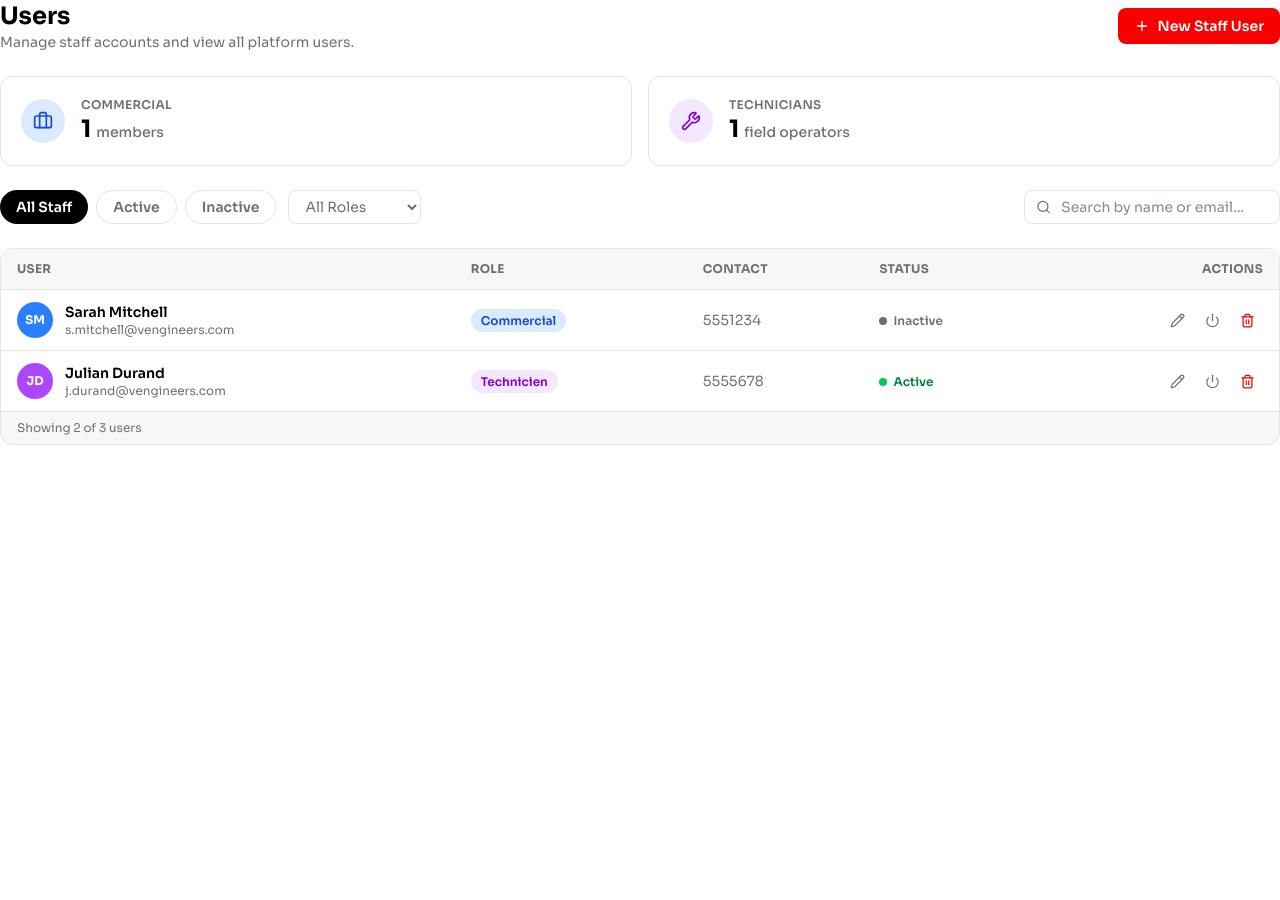
Admin Users › edits a user and shows the role as read-only
Expected: the text "Sarah Mitchell" is shown, [65, 303, 168, 321]
Click the button titled "Edit" in the row of "SM" at (1178,320), box [1162, 304, 1193, 336]
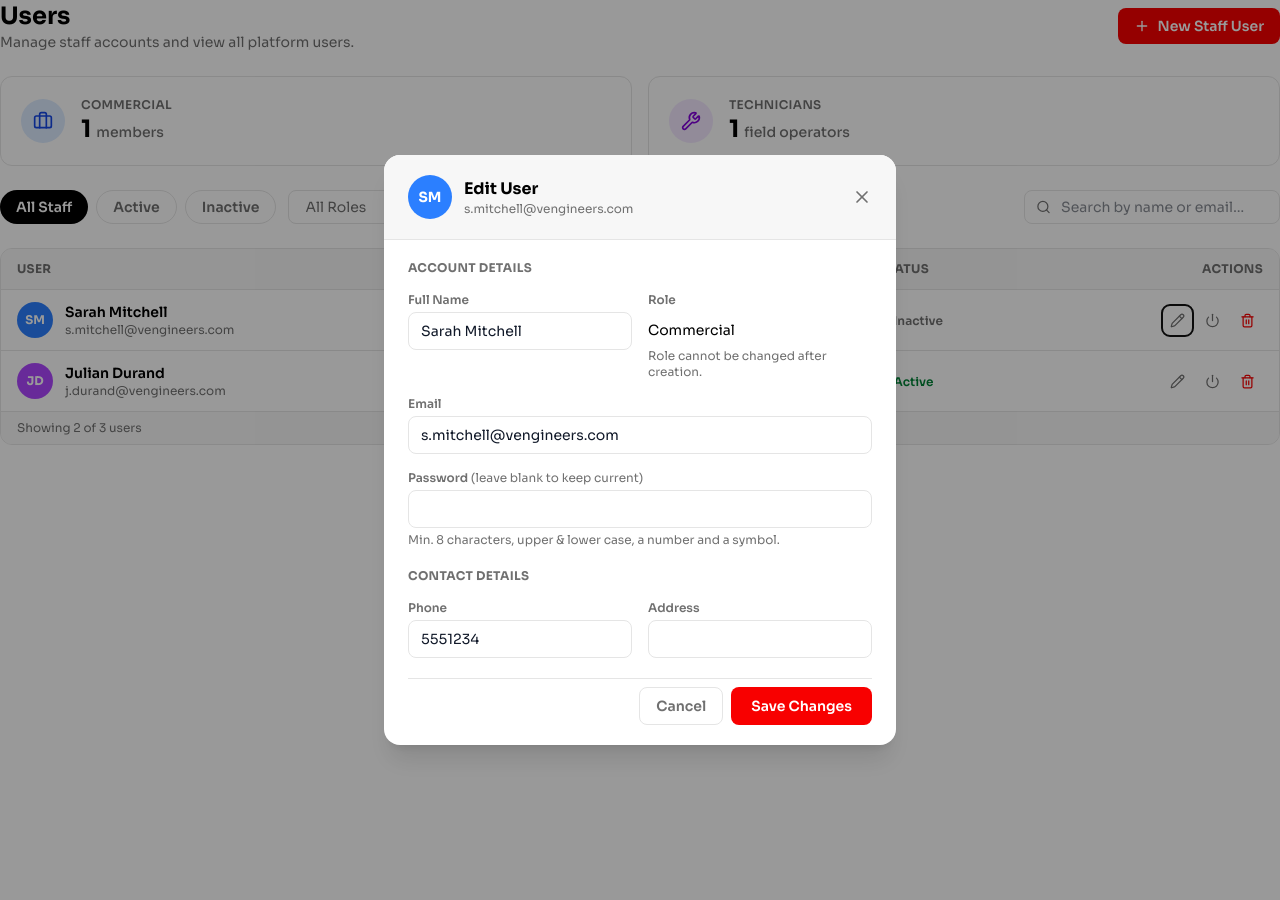
Expected: the text "Role cannot be changed after creation." is shown, [648, 348, 827, 379]
Expected: the text "Commercial" is shown, [648, 321, 735, 339]
Replace the text in the field labelled "Full Name" with "Sarah M. Updated" at (520,331), box [408, 312, 632, 350]
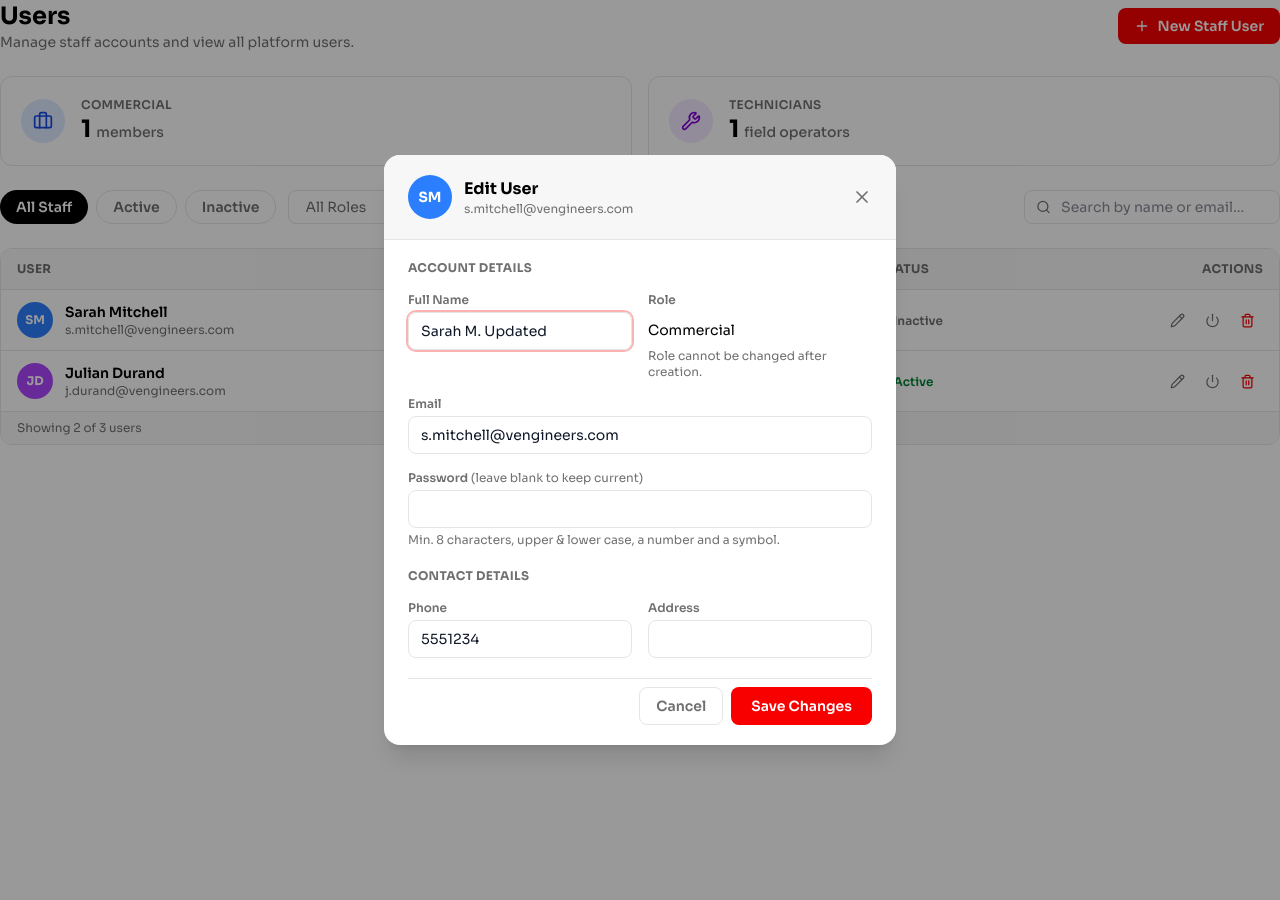
Click the button "Save Changes" at (802,706), box [731, 687, 872, 725]
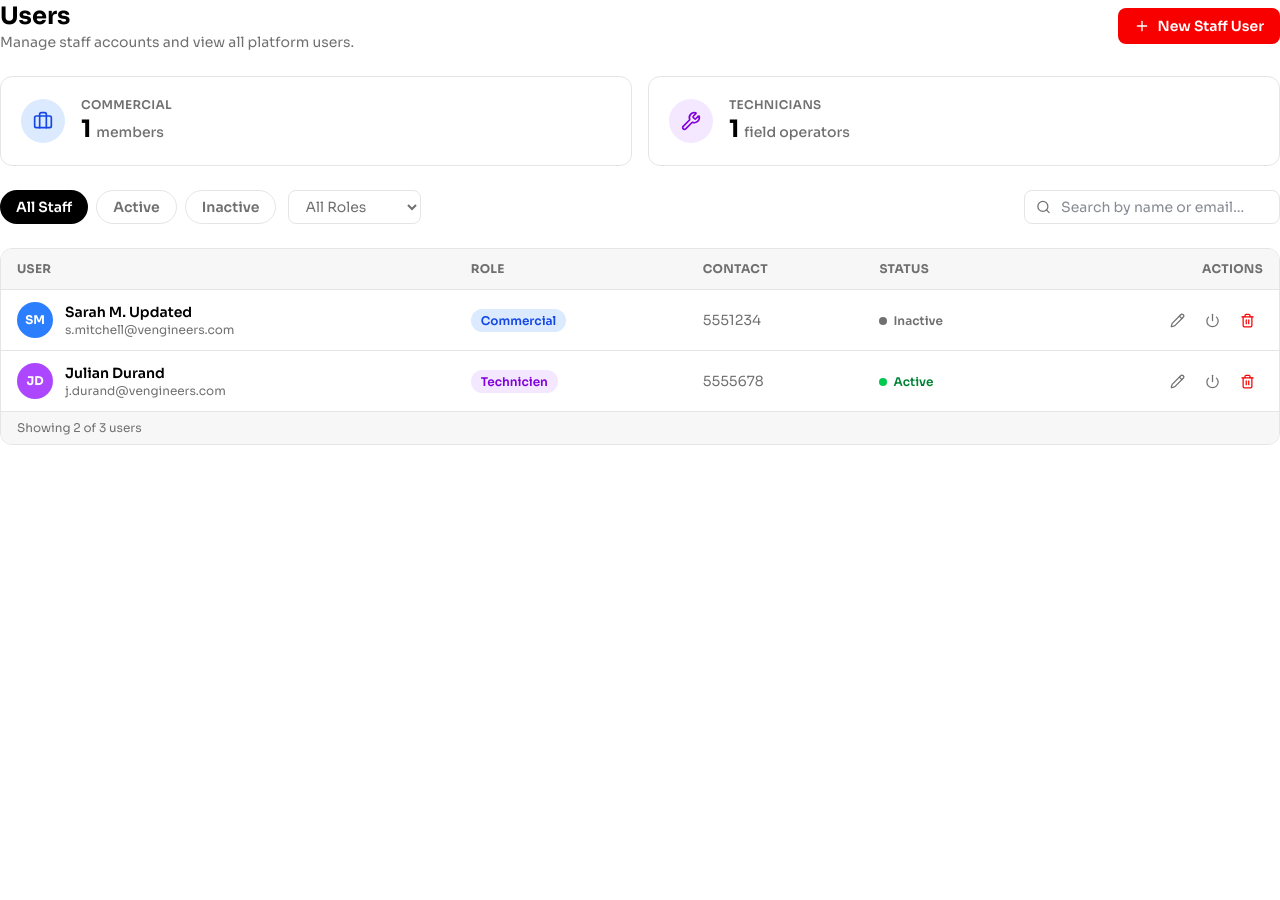
Expected: the text "Sarah M. Updated" is shown, [65, 303, 192, 321]
